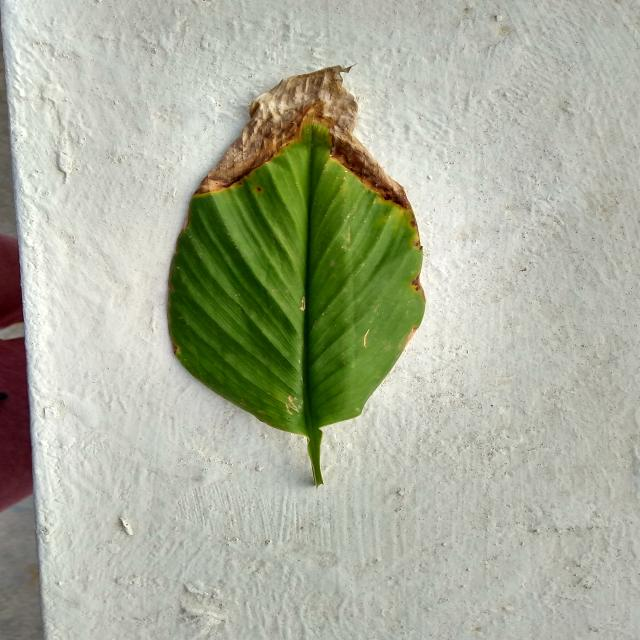leaf blotch: (169, 65, 424, 485)
